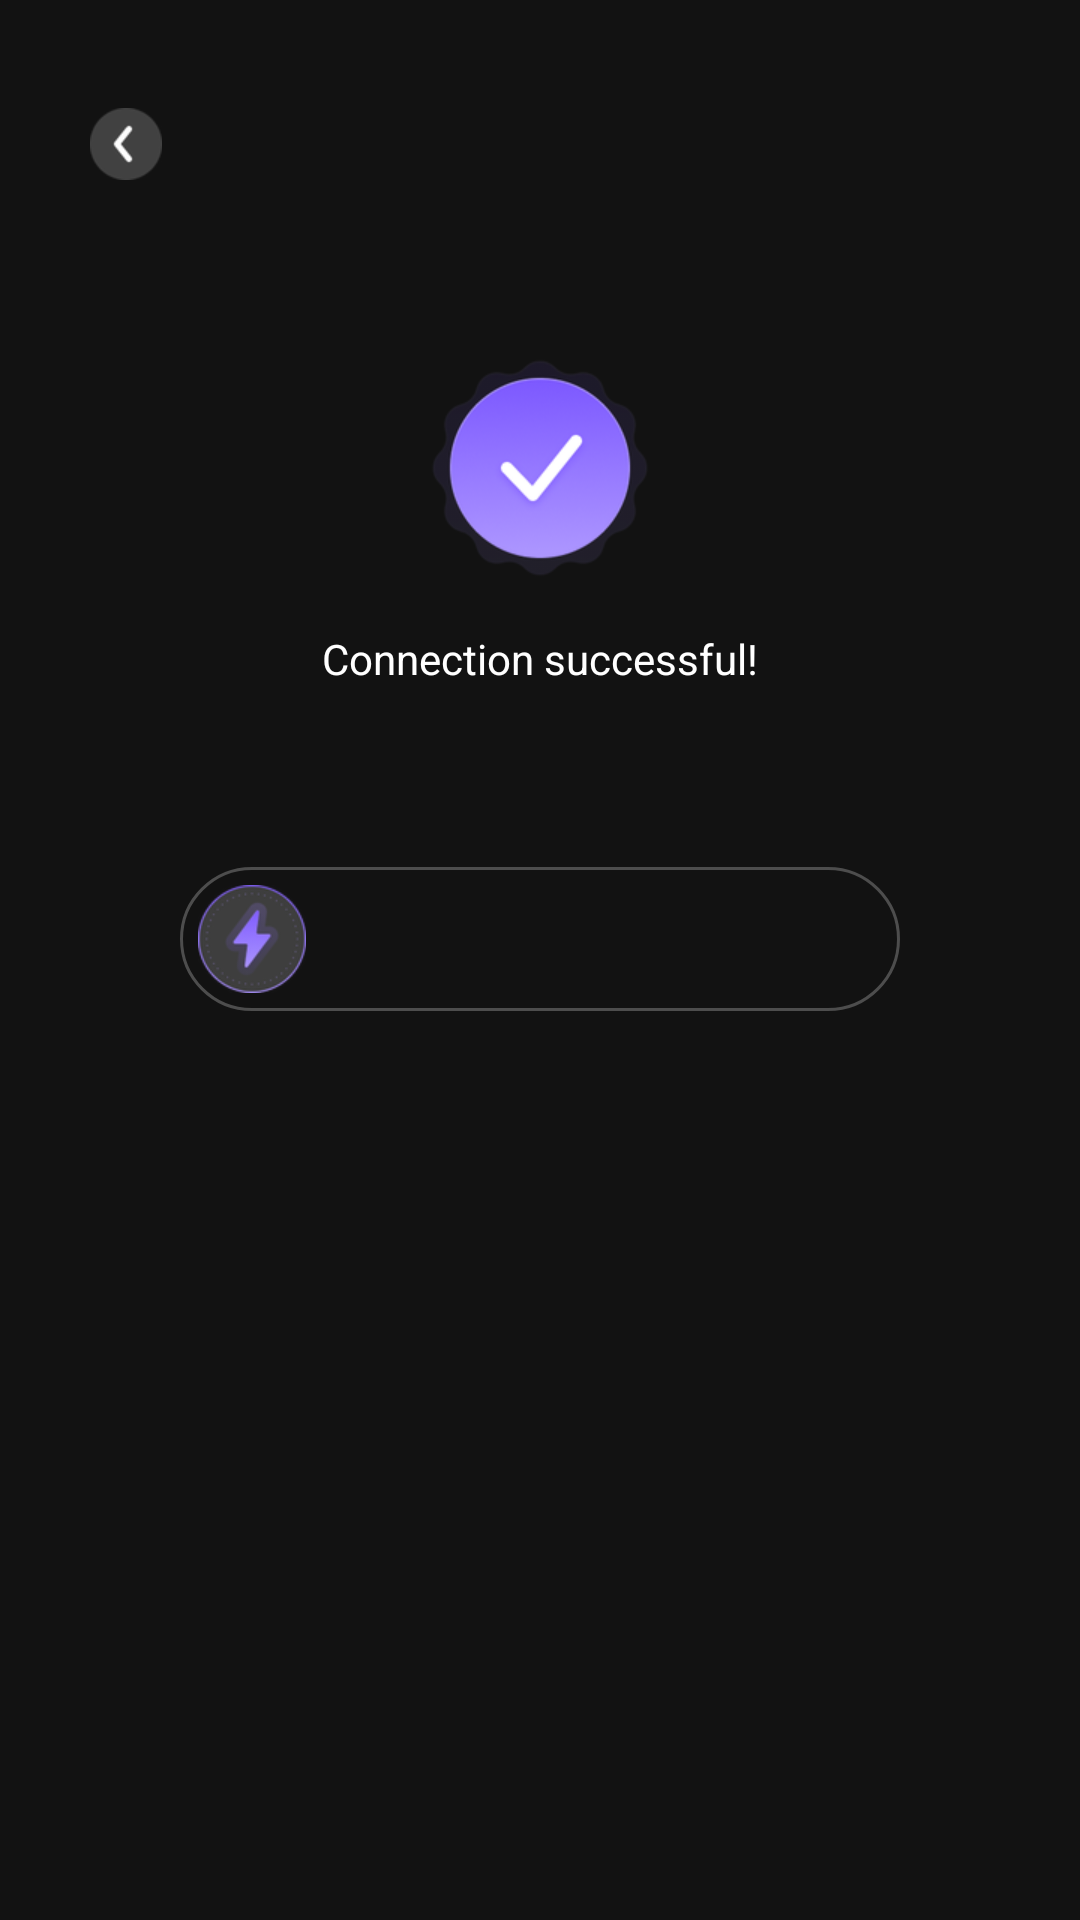

Point at icon controls on the screen. Image size 1080px×1920px, points as (x=x, y=y).
last ok: (x=540, y=468)
return: (x=126, y=144)
super fast servers: (x=252, y=939)
